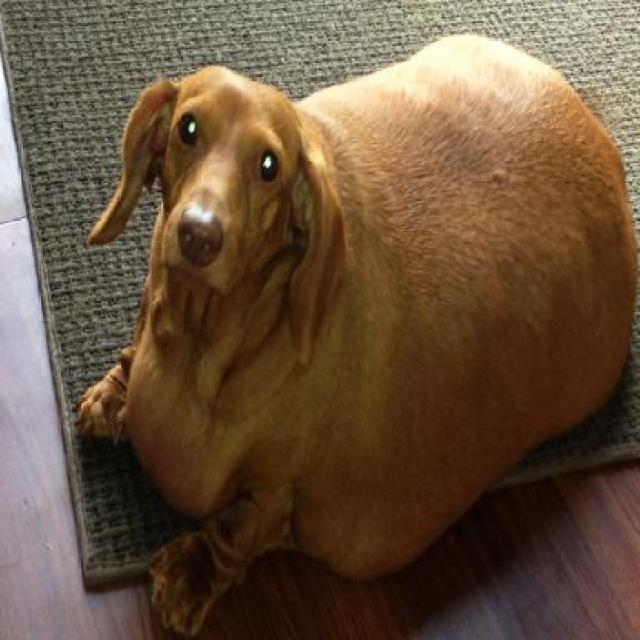Dog: (76, 31, 638, 638)
